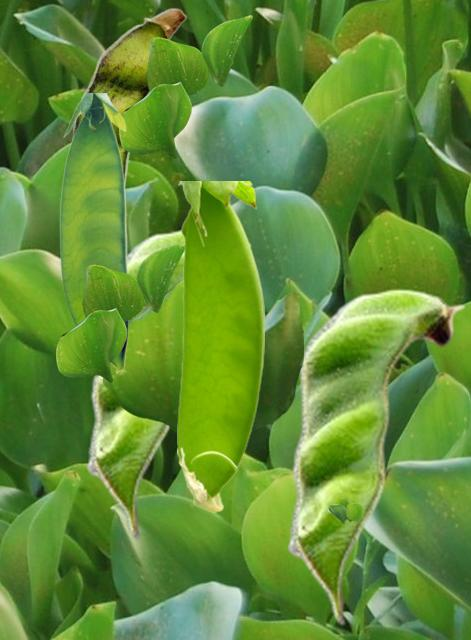pea: (286, 288, 465, 625), (85, 228, 251, 539), (177, 181, 263, 511), (68, 7, 186, 195), (59, 93, 127, 372)
